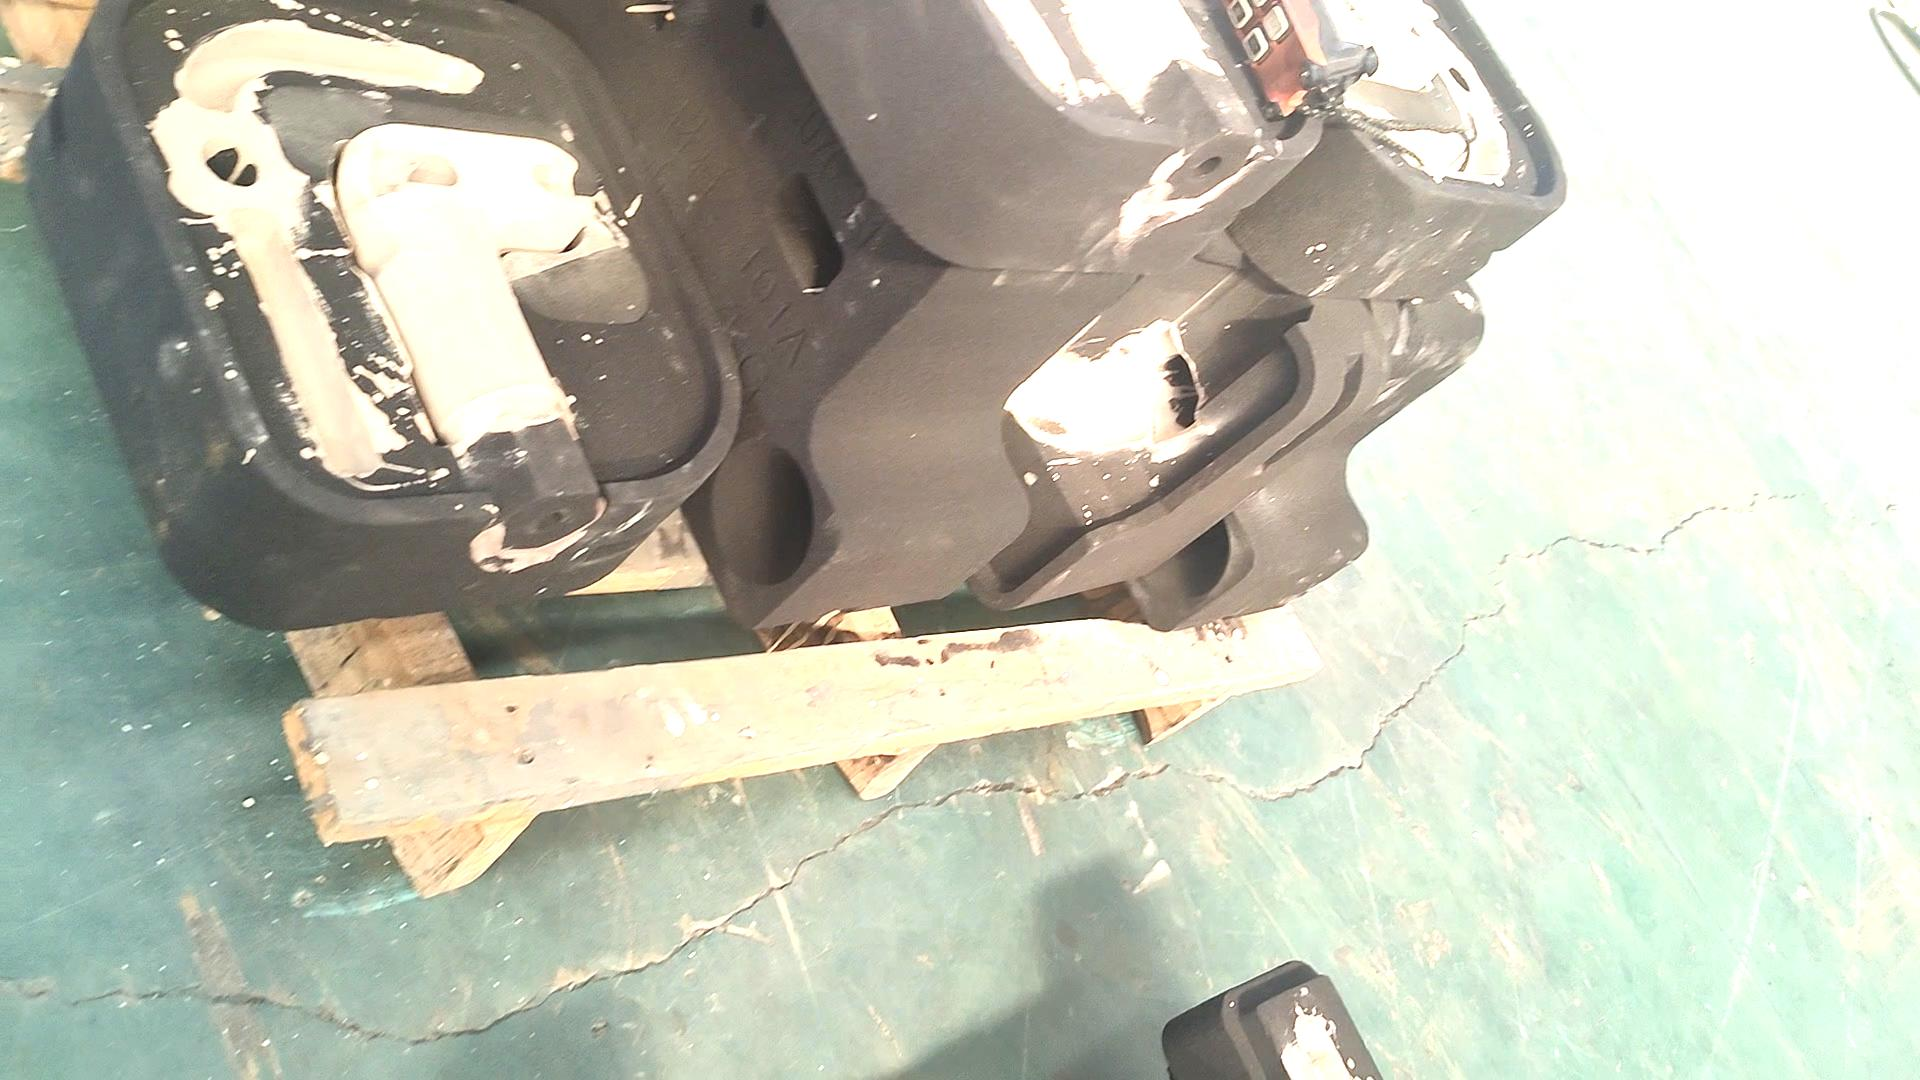pouring hole: (709, 439, 814, 585), (1131, 496, 1230, 599)
